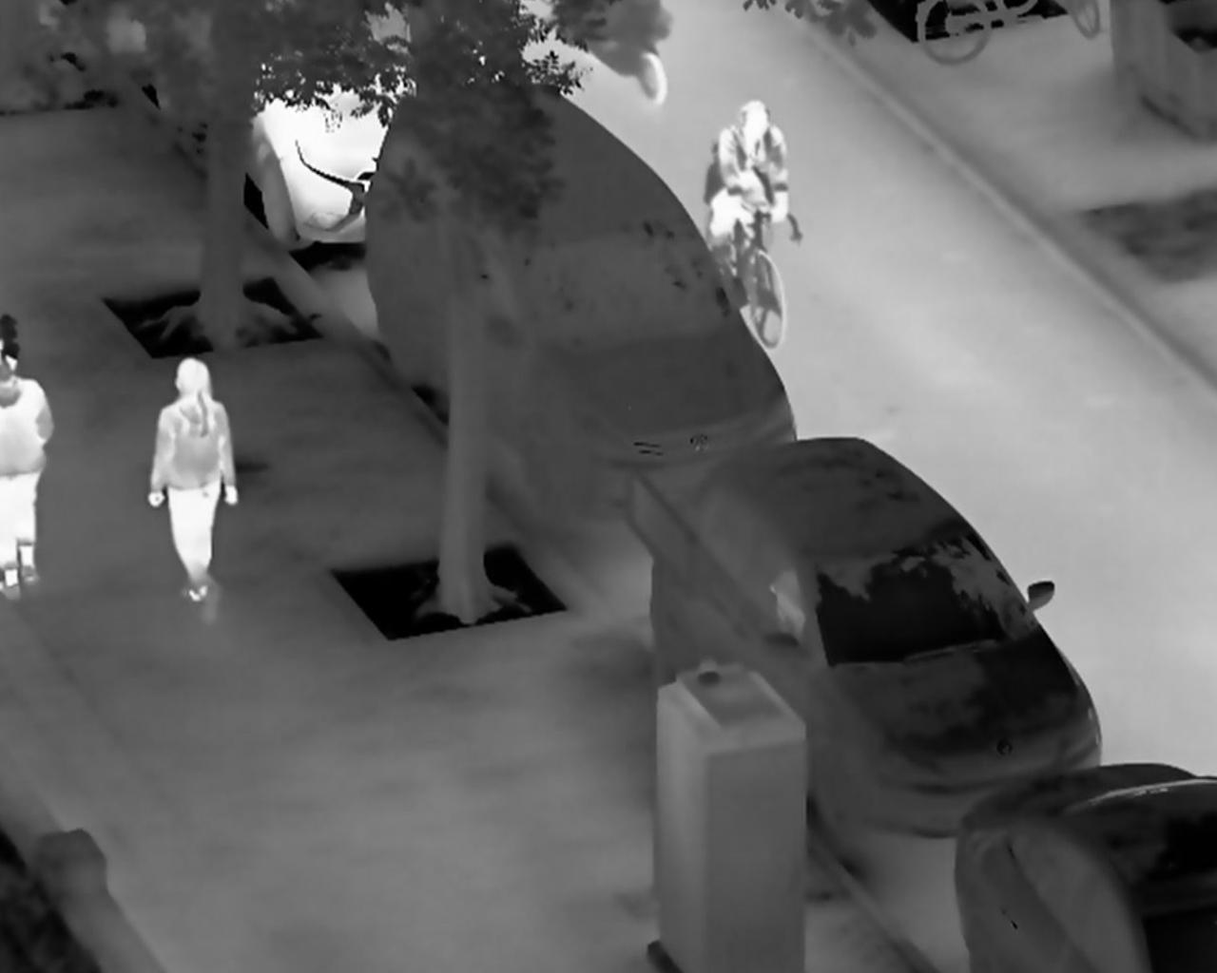person: (145, 353, 245, 628), (699, 95, 796, 279)
